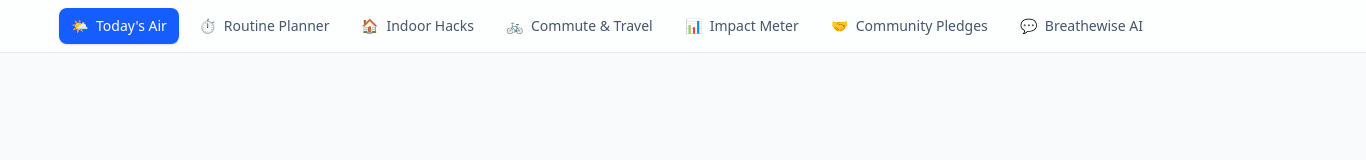
Test: dom events suite › Tabs click changes active tab
This screenshot has width=1366, height=160.
Click the tab "⏱️ Routine Planner": (264,26) top-left (187, 8), bottom-right (342, 44)
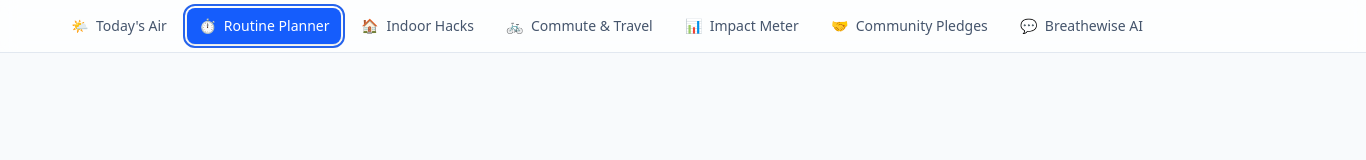
expect the tab "⏱️ Routine Planner" is selected: met, box top-left (187, 8), bottom-right (342, 44)
